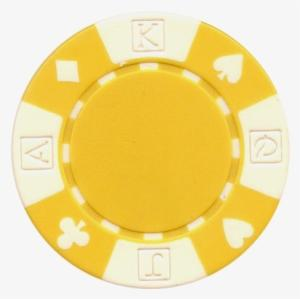chip-yellow: (13, 13, 288, 287)
